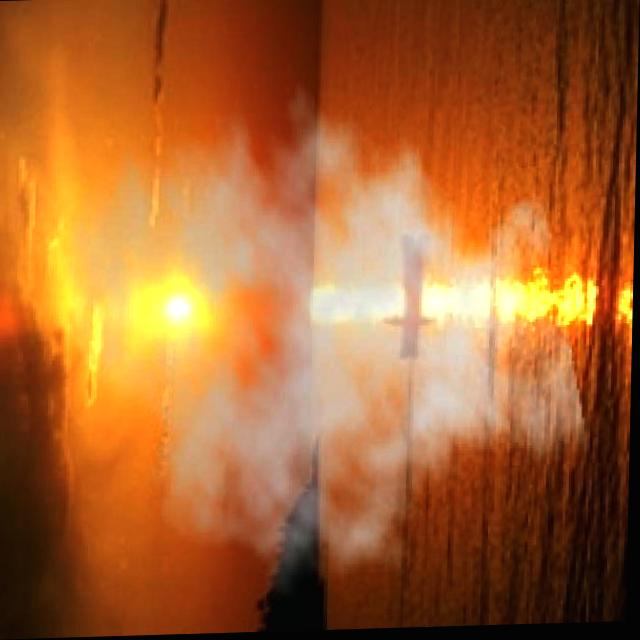Smoke: (55, 55, 599, 607)
